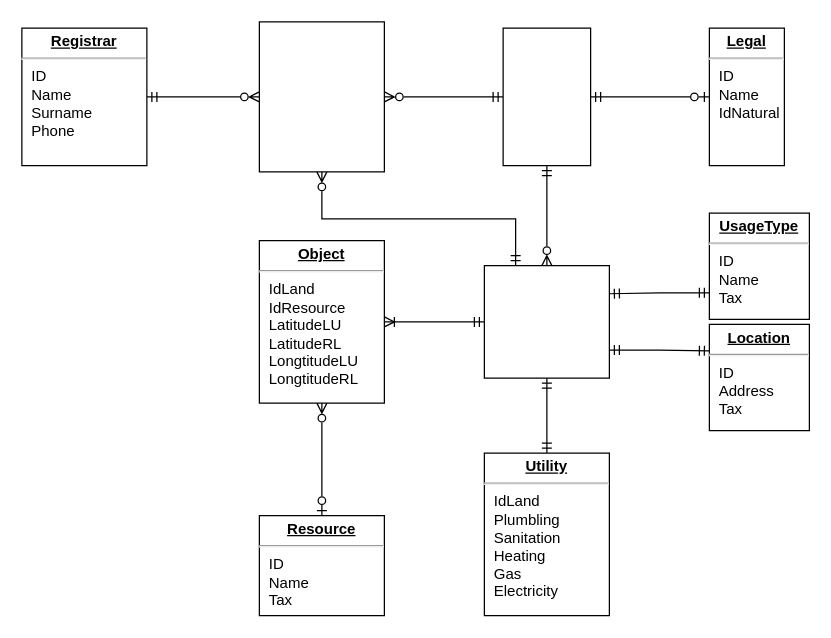
Image size: 831x638. Some labels were removed from this diagram. The shapes that lost their labels are listed below. From the top down, each one's box as (x1, y1, x2, y2) in pixels, then its label:
(258, 21, 384, 172): Act ID IdLand IdBuyer IdSeller IdRegistrar Date
(502, 27, 591, 166): Natural ID Name Surname BDDate Phone
(483, 264, 609, 378): Land ID IdOwner IdLocation IdUsageType
